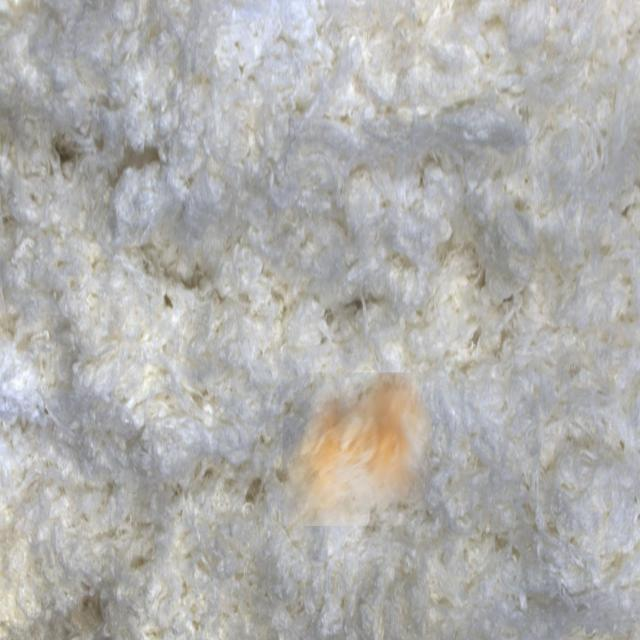dust: (283, 372, 433, 526)
